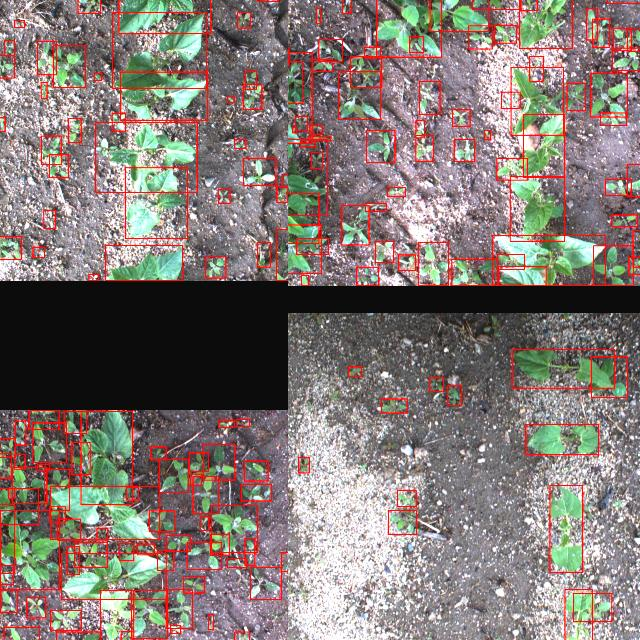crop: (112, 12, 206, 88), (96, 122, 196, 192), (50, 486, 158, 540), (492, 236, 604, 286), (80, 410, 132, 504), (61, 553, 166, 599), (124, 168, 188, 238), (120, 72, 206, 120), (512, 348, 614, 388), (510, 176, 564, 242), (510, 67, 562, 135), (118, 0, 210, 34), (550, 486, 582, 572), (522, 114, 564, 178), (105, 246, 182, 280), (518, 0, 571, 48), (524, 424, 598, 454), (288, 52, 311, 143), (99, 590, 133, 640), (564, 589, 591, 640), (53, 45, 85, 87), (498, 266, 546, 286), (36, 41, 56, 75), (256, 242, 270, 268)
weed: (0, 510, 58, 590), (375, 0, 440, 57), (288, 139, 327, 215), (211, 506, 257, 552), (338, 71, 380, 119), (428, 0, 487, 31), (131, 590, 167, 638), (288, 224, 321, 273), (593, 246, 633, 286), (590, 73, 626, 117), (288, 194, 318, 244), (590, 357, 626, 398), (0, 488, 38, 524), (32, 422, 66, 462), (417, 242, 447, 286), (12, 467, 46, 503), (451, 260, 497, 286), (202, 444, 234, 480), (572, 594, 612, 622), (342, 205, 368, 245), (349, 56, 381, 88), (158, 458, 188, 492), (165, 590, 191, 628), (192, 476, 218, 514), (44, 468, 68, 509), (0, 504, 14, 574), (250, 567, 280, 599), (242, 158, 276, 186), (186, 542, 220, 570), (366, 130, 394, 162), (74, 542, 106, 566), (418, 82, 439, 115), (388, 510, 416, 534), (496, 158, 526, 180), (612, 47, 640, 70), (50, 610, 80, 630), (288, 61, 302, 103), (71, 442, 89, 474), (28, 409, 58, 428), (40, 136, 60, 164), (148, 511, 174, 532), (468, 26, 492, 48), (318, 39, 342, 61), (56, 518, 80, 540), (296, 238, 328, 254), (241, 484, 271, 501), (566, 83, 584, 111), (64, 411, 86, 433), (0, 236, 21, 259), (242, 84, 262, 108), (48, 154, 68, 178), (243, 460, 267, 480), (626, 163, 640, 196), (3, 627, 38, 640), (592, 19, 608, 47), (496, 254, 524, 270), (471, 0, 520, 9), (454, 139, 474, 161), (356, 266, 378, 286), (604, 179, 630, 195), (416, 135, 432, 161), (205, 258, 225, 278), (188, 452, 208, 472), (613, 28, 631, 50), (494, 25, 516, 43), (66, 546, 80, 574), (165, 535, 189, 551), (600, 112, 626, 126), (381, 399, 407, 413), (375, 242, 393, 262), (26, 598, 44, 618), (210, 534, 228, 554), (182, 577, 204, 593), (0, 590, 16, 612), (396, 489, 416, 506), (529, 56, 543, 80), (0, 54, 14, 77), (586, 8, 596, 40), (500, 92, 520, 108), (157, 550, 173, 570), (626, 29, 640, 51), (77, 0, 100, 13), (632, 230, 640, 267), (68, 118, 80, 142), (612, 215, 636, 227), (452, 110, 470, 126), (14, 420, 26, 444), (0, 438, 15, 457), (447, 385, 461, 405), (244, 538, 254, 564), (49, 506, 65, 522), (118, 544, 134, 560), (111, 113, 125, 131), (0, 452, 10, 477), (244, 70, 256, 90), (0, 565, 12, 584), (398, 256, 414, 270), (409, 36, 423, 52), (628, 257, 640, 275), (237, 12, 250, 28), (150, 446, 166, 459), (312, 60, 332, 70), (226, 558, 246, 568), (429, 377, 443, 391), (310, 152, 322, 168), (364, 46, 380, 58), (44, 211, 54, 229), (414, 120, 424, 138), (136, 544, 154, 554), (364, 203, 386, 211), (276, 188, 288, 202), (217, 190, 229, 204), (295, 116, 307, 130), (4, 40, 14, 56), (520, 0, 536, 10), (125, 486, 137, 499), (387, 188, 405, 196), (14, 454, 24, 468), (298, 458, 308, 472), (281, 552, 288, 571), (95, 528, 106, 540), (32, 247, 44, 257), (233, 632, 248, 640), (190, 473, 200, 485), (348, 366, 360, 376), (218, 419, 234, 426), (200, 516, 208, 530), (341, 0, 350, 12), (120, 631, 131, 640), (40, 82, 46, 98), (233, 140, 245, 148), (309, 126, 321, 134), (236, 418, 248, 426), (281, 174, 288, 187), (308, 136, 330, 140), (300, 140, 314, 146), (14, 20, 24, 28), (300, 276, 308, 286), (170, 625, 180, 633), (36, 464, 48, 470), (0, 117, 5, 131), (208, 614, 212, 630), (88, 275, 98, 281), (484, 130, 490, 140), (8, 488, 14, 498), (316, 8, 320, 22), (93, 74, 101, 80), (226, 96, 234, 102), (292, 128, 296, 132)
